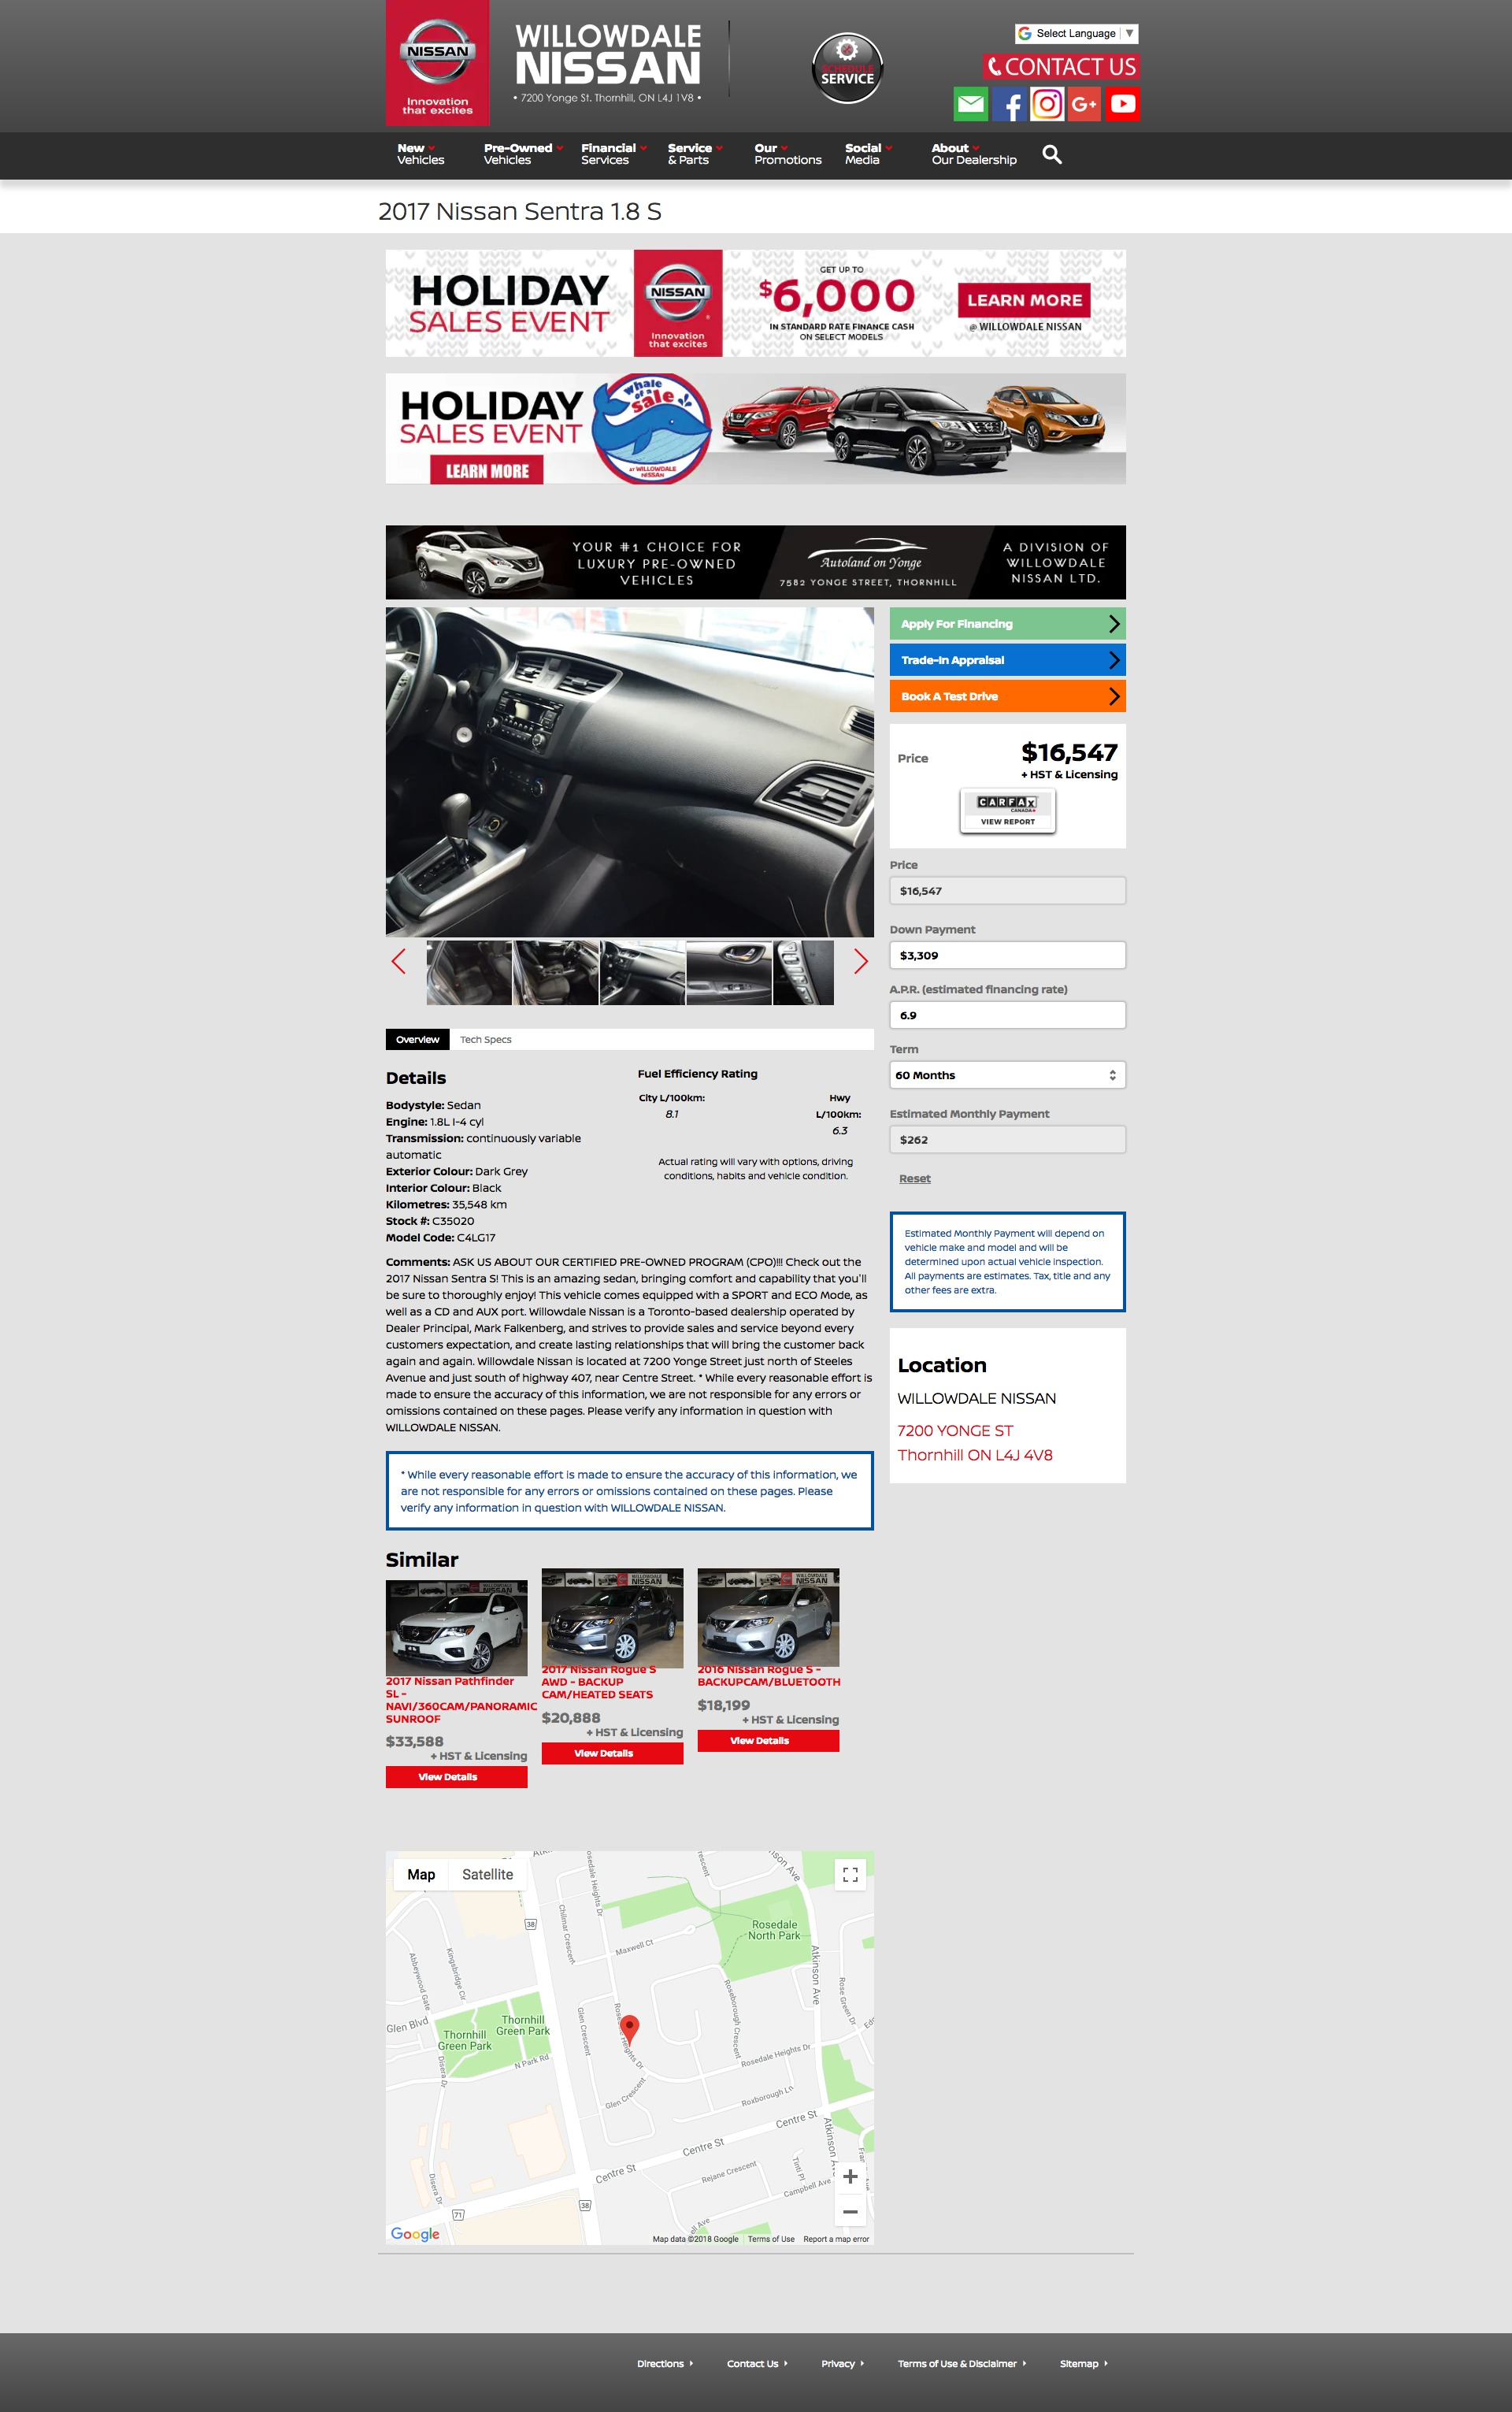car: (854, 947, 873, 977)
